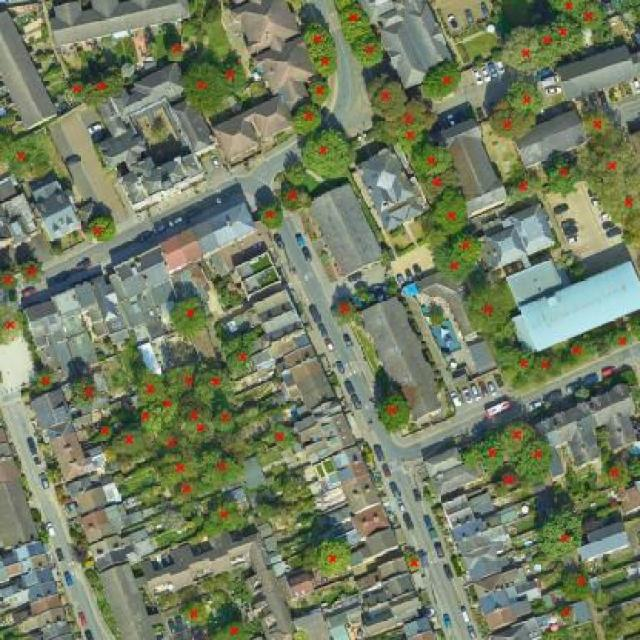tree: (598, 152, 640, 246), (0, 129, 55, 183), (300, 126, 355, 180), (580, 141, 635, 190), (464, 283, 513, 337), (182, 61, 225, 116), (538, 508, 582, 561), (380, 96, 438, 135), (489, 98, 536, 142), (192, 500, 245, 538), (432, 188, 470, 238), (367, 74, 408, 120), (582, 104, 622, 151), (198, 448, 247, 486), (170, 292, 207, 342), (433, 246, 478, 286), (309, 538, 353, 578), (502, 27, 542, 71), (520, 437, 554, 488), (422, 58, 462, 100), (545, 13, 587, 53), (411, 142, 457, 178), (526, 21, 563, 65), (225, 330, 258, 375), (547, 153, 584, 193), (417, 168, 463, 200), (506, 79, 545, 116), (110, 427, 152, 461), (164, 362, 202, 398), (504, 169, 542, 205), (561, 559, 593, 601), (216, 58, 250, 96), (496, 344, 536, 376), (378, 392, 409, 433), (198, 366, 232, 402), (152, 422, 188, 456), (300, 22, 337, 55), (0, 302, 26, 348), (561, 332, 596, 366), (340, 4, 371, 42), (350, 34, 384, 68), (502, 422, 536, 456), (278, 182, 313, 215), (135, 372, 168, 406), (596, 609, 632, 640), (598, 456, 630, 490), (154, 454, 198, 478), (452, 232, 486, 262), (171, 474, 203, 504), (482, 432, 506, 472), (69, 376, 97, 410), (395, 117, 423, 151), (152, 391, 180, 424), (528, 351, 562, 378), (579, 1, 606, 32), (134, 404, 160, 436), (182, 420, 216, 443), (208, 623, 254, 640), (295, 105, 320, 136), (180, 402, 212, 426), (87, 218, 116, 244), (264, 426, 298, 448), (19, 259, 46, 286), (312, 50, 338, 78), (182, 602, 209, 628), (83, 80, 109, 106), (331, 300, 357, 326), (258, 203, 284, 229), (98, 67, 125, 91), (212, 406, 235, 434), (549, 0, 584, 18), (497, 468, 521, 492), (590, 588, 613, 612), (308, 79, 330, 104), (66, 74, 86, 101), (202, 1, 224, 25), (609, 329, 633, 351), (286, 163, 308, 185), (402, 550, 423, 573), (555, 605, 576, 626), (168, 41, 187, 64), (626, 449, 640, 480), (462, 447, 482, 468), (426, 308, 445, 330), (0, 268, 18, 291), (573, 385, 593, 404), (36, 368, 53, 390), (96, 426, 112, 442), (48, 245, 64, 258)
